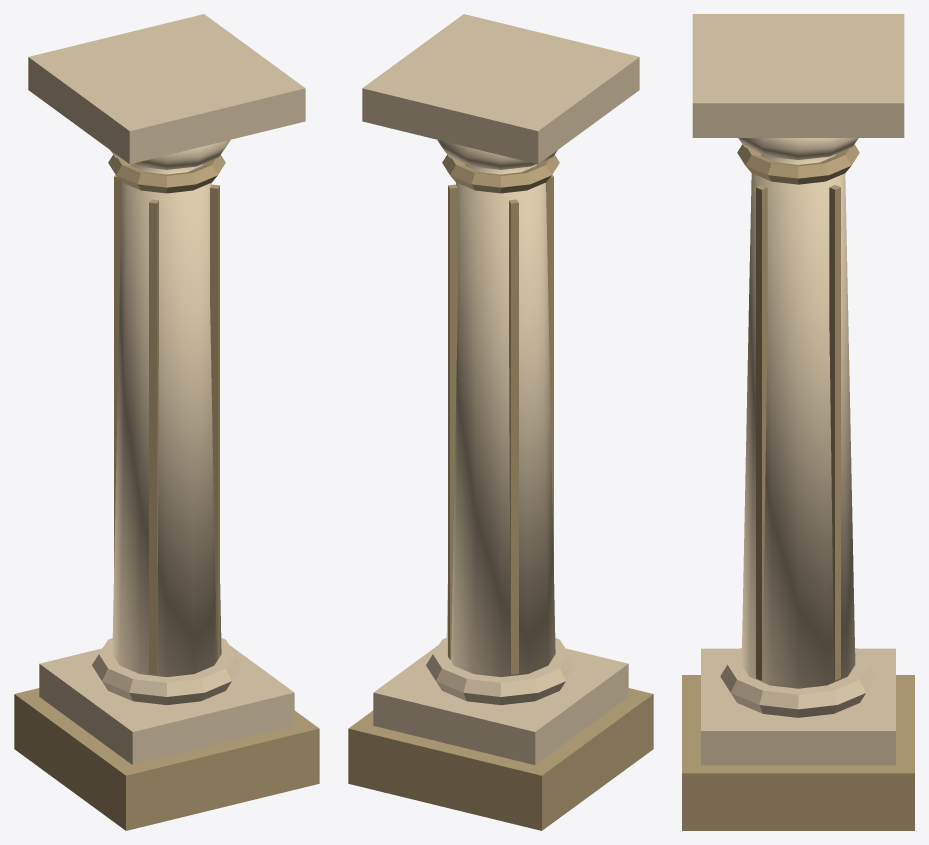
File: hd_column.gltf
3 renders of one model, left to right at view 1: azimuth 30°, elevation 25°; view 2: azimuth 150°, elevation 25°; view 3: azimuth 270°, elevation 25°, orthographic. The views are drawn at different scales.
Visible parts, largest first — view 1: shaft, abacus, plinth, plinth2, baseRing, flute2, flute3, neckRing, flute1, echinus; view 2: shaft, abacus, plinth, plinth2, baseRing, flute1, flute0, neckRing, flute2, echinus; view 3: shaft, abacus, plinth, plinth2, baseRing, flute0, flute3, neckRing, echinus.
Boxes of the visible parts, x1,y1,x2,y2 form: shaft: (112,164,221,676); abacus: (28,14,305,164); plinth: (14,688,319,830); plinth2: (39,645,294,764); baseRing: (92,638,241,704); flute2: (149,199,158,674); flute3: (210,184,219,659); neckRing: (108,155,225,193); flute1: (114,175,121,566); echinus: (110,140,230,169); shaft: (446,164,555,676); abacus: (362,14,639,164); plinth: (348,688,653,830); plinth2: (373,645,628,764); baseRing: (426,638,575,704); flute1: (509,199,518,674); flute0: (448,184,457,659); neckRing: (442,155,559,193); flute2: (546,175,553,566); echinus: (437,140,557,169); shaft: (741,154,855,688); abacus: (692,14,904,137); plinth: (682,675,914,830); plinth2: (701,648,895,765); baseRing: (720,648,876,717); flute0: (829,185,840,680); flute3: (756,185,767,680); neckRing: (737,144,859,184); echinus: (738,138,858,159).
Size of the model in its own units: 1.1 by 3.77 by 1.1.
